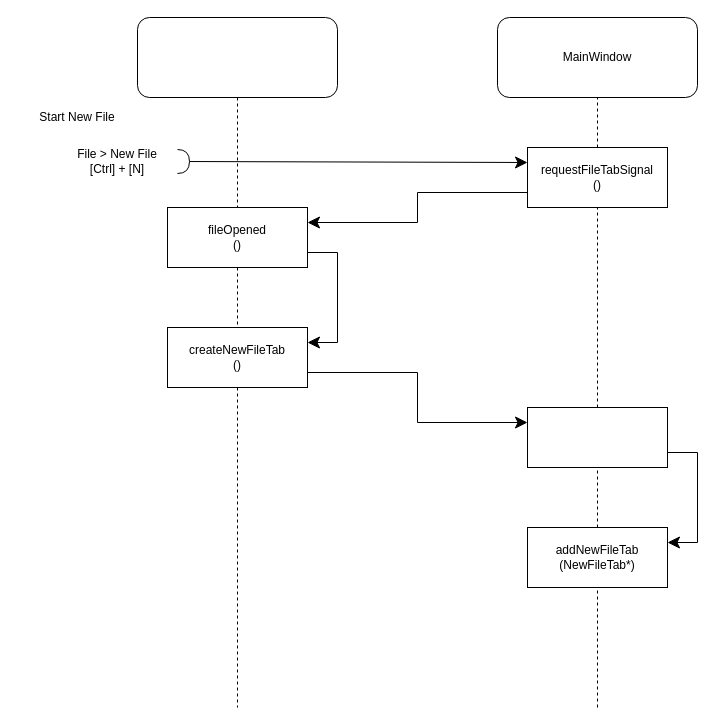
Some shapes in this 727 by 726 pixel diagram are drawn without their labels. Here are the shapes that lost their labels. From the top down, the centre of each, then its label:
point 237,57: App
point 597,437: newFileTabSignal (NewFileTab*)
